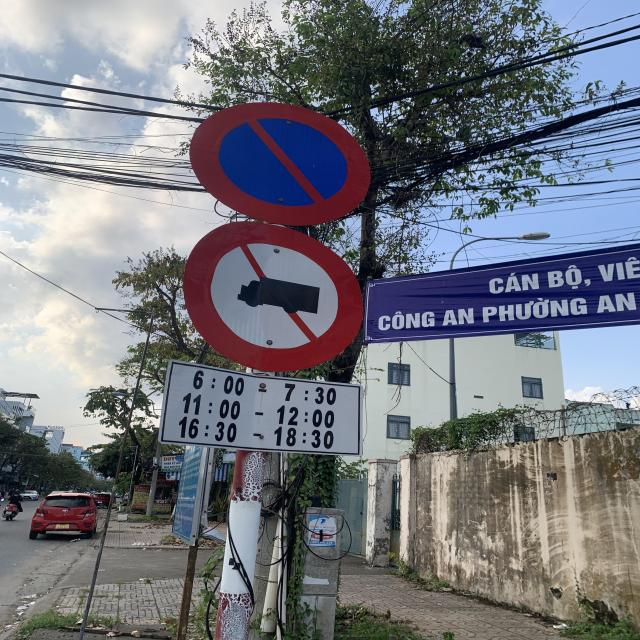Cam_Dau_Xe: (190, 101, 373, 224)
Cam_Xe_Tai: (180, 220, 363, 373)
